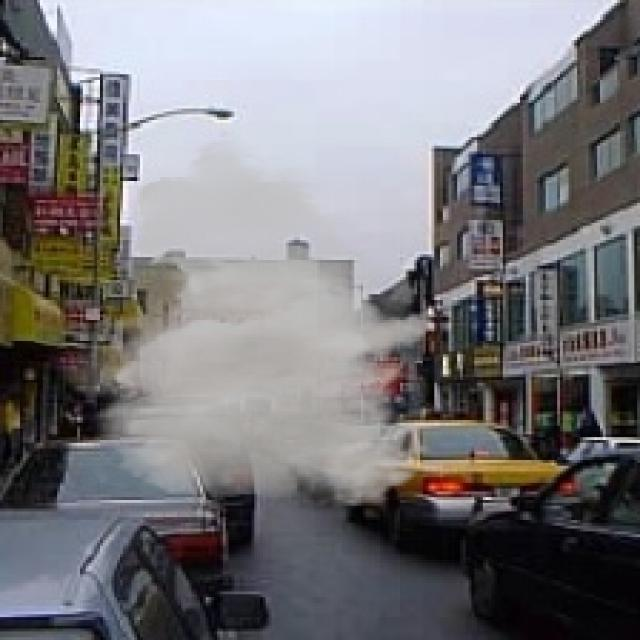Smoke: (52, 128, 437, 508)
